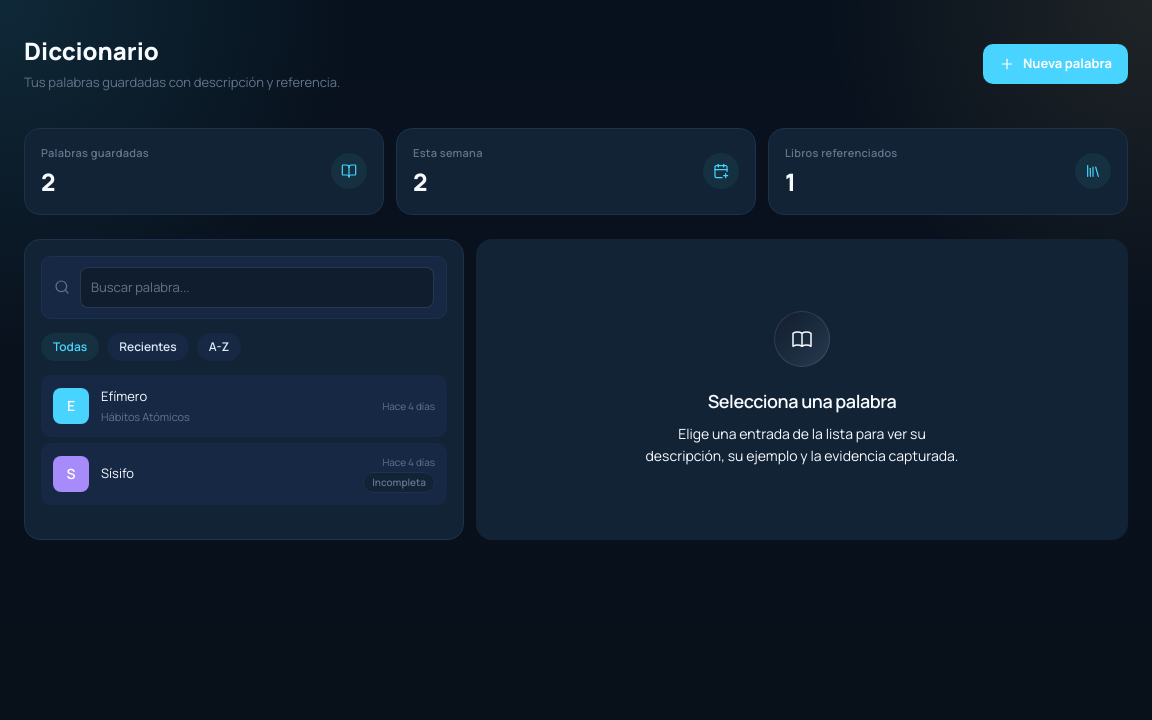
it: DictionaryView edit mode (4D) › closes the edit session when another row is selected
Click the button with test id "dictionary-row" that starts with "Efímero" at (71, 406), box [41, 375, 447, 437]
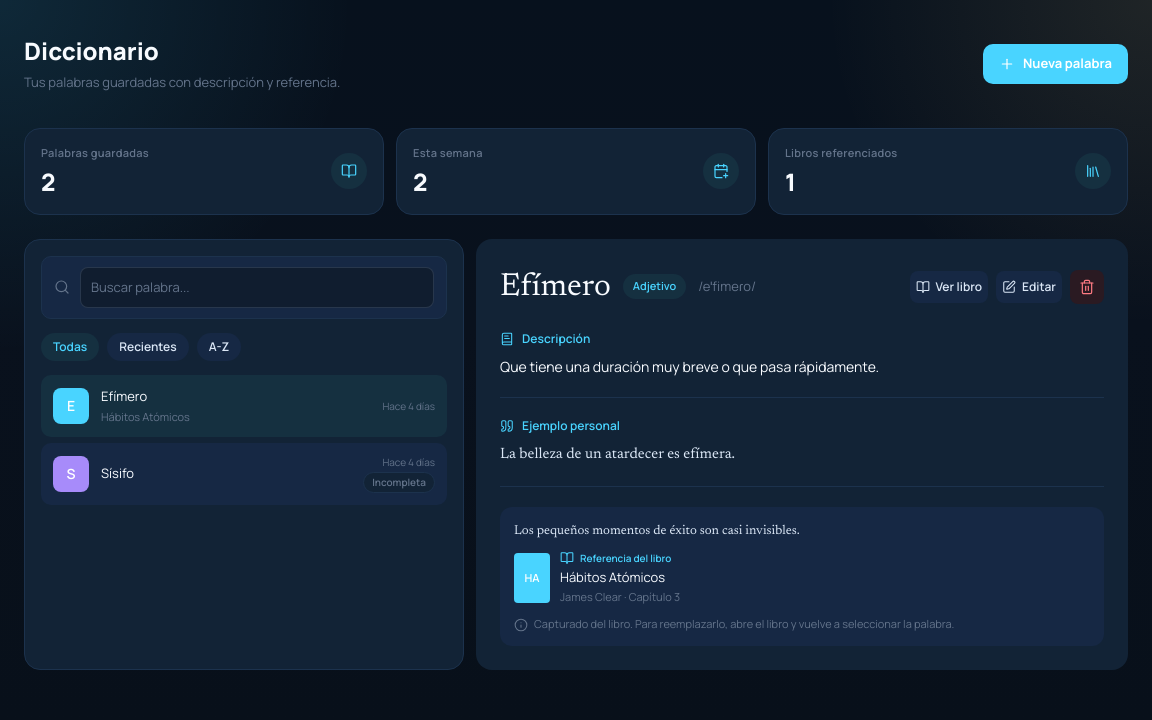
Click the button with test id "dictionary-detail-edit" at (1029, 286), box [996, 270, 1062, 302]
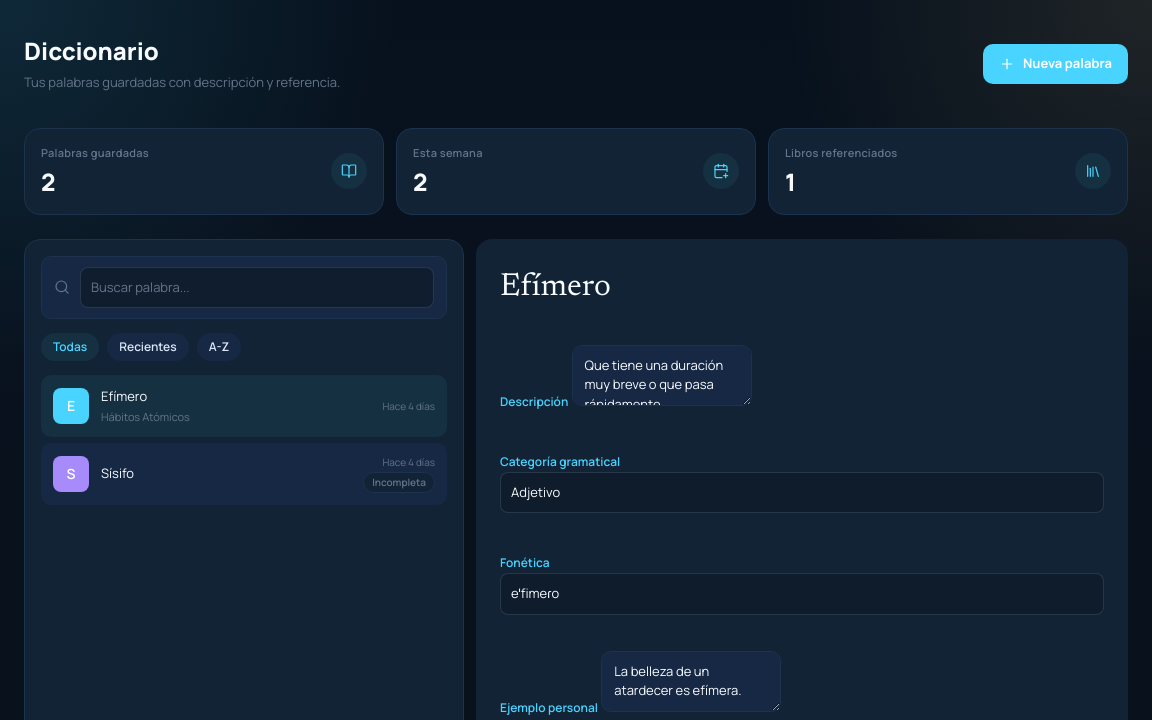
Click the button with test id "dictionary-row" that starts with "Sísifo" at (71, 474), box [41, 443, 447, 505]
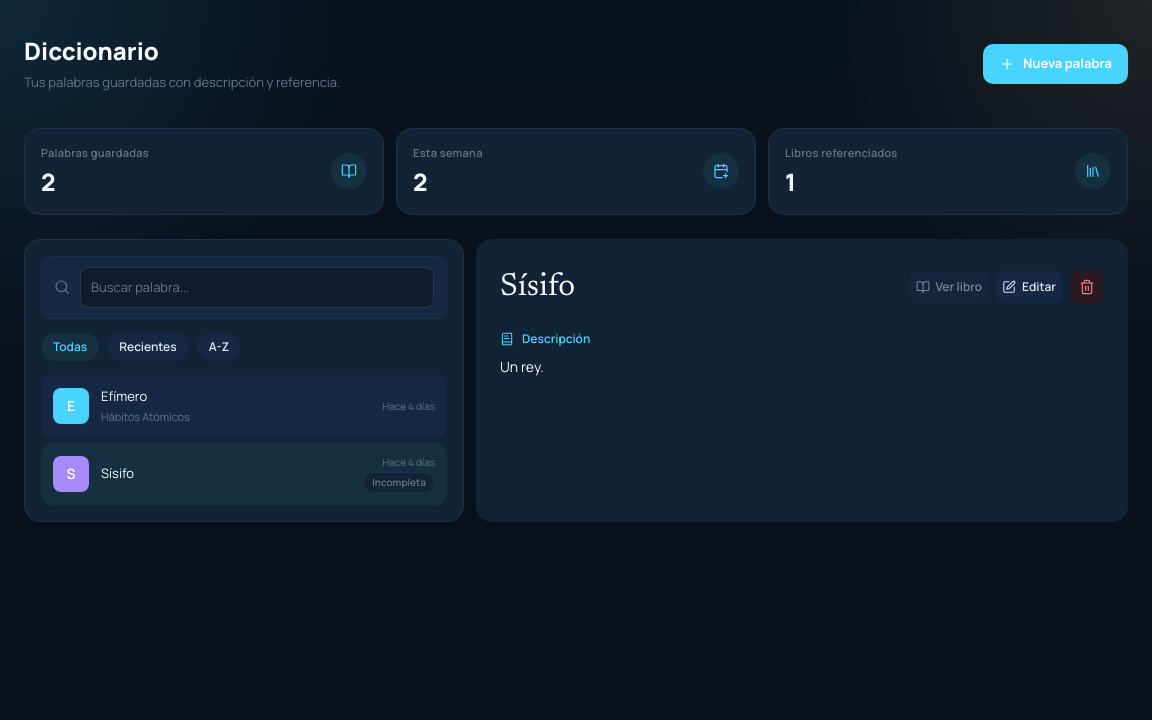
Result: the heading with test id "dictionary-detail-term" reads "Sísifo" at [500, 270, 575, 302]
